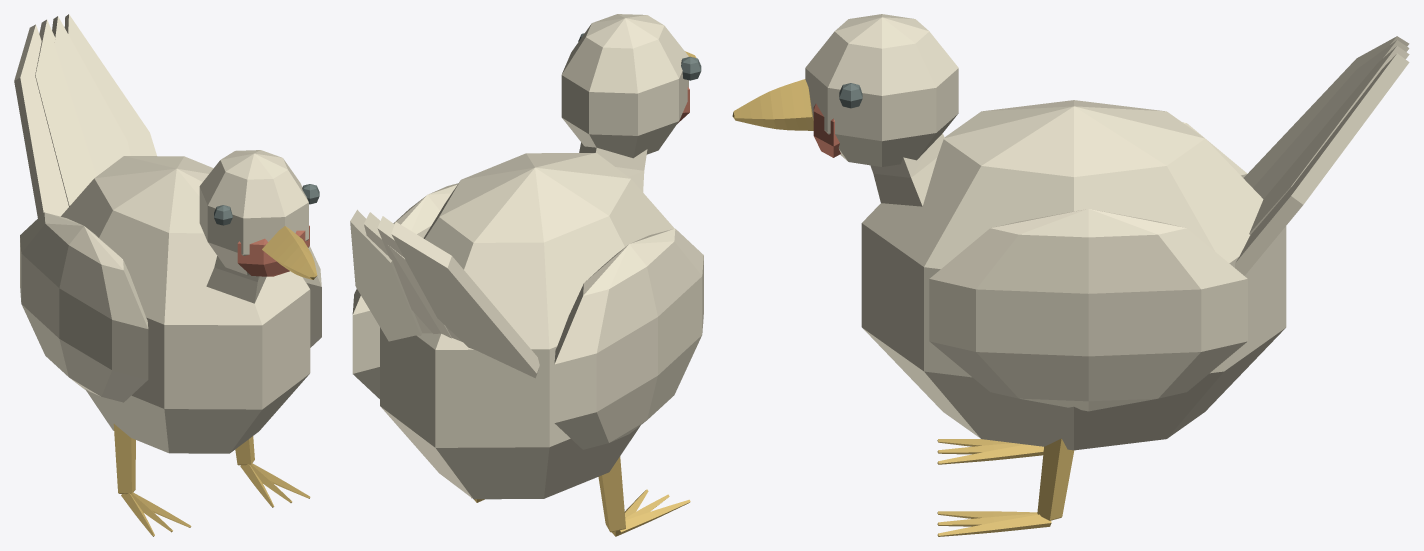
Rendered from muscovy-drake.glb.
3 views of the same model, side by side, from view 1: azimuth 30°, elevation 25°; view 2: azimuth 150°, elevation 25°; view 3: azimuth 270°, elevation 25° (orthographic). The views are drawn at different scales.
Visible parts, largest first — view 1: muscovy-drake; view 2: muscovy-drake; view 3: muscovy-drake.
Part boxes in pixels (left/top/right/bottom): muscovy-drake: left=14, top=14, right=321, bottom=536; muscovy-drake: left=350, top=14, right=703, bottom=536; muscovy-drake: left=732, top=14, right=1409, bottom=536.
Size of the model in its own units: 0.3291 by 0.5385 by 0.6978.
